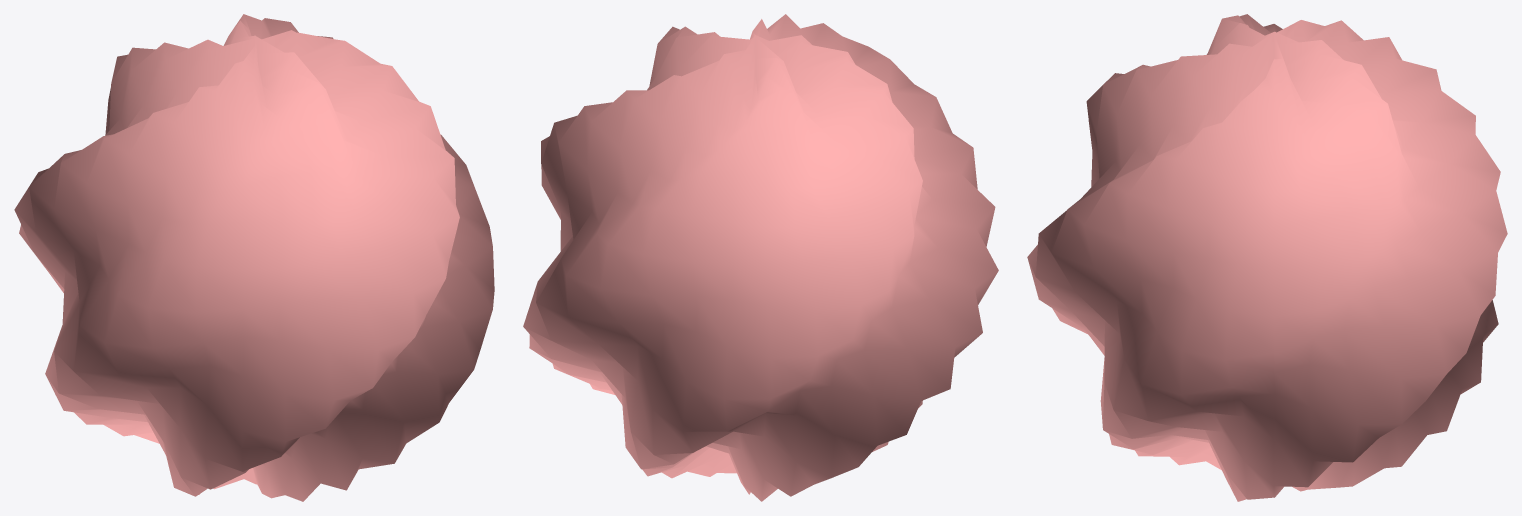
File: vent.glb
3 views of the same model, side by side, from view 1: azimuth 30°, elevation 25°; view 2: azimuth 150°, elevation 25°; view 3: azimuth 270°, elevation 25° (orthographic).
Size of the model in its own units: 2.23 by 2.3 by 2.22.
